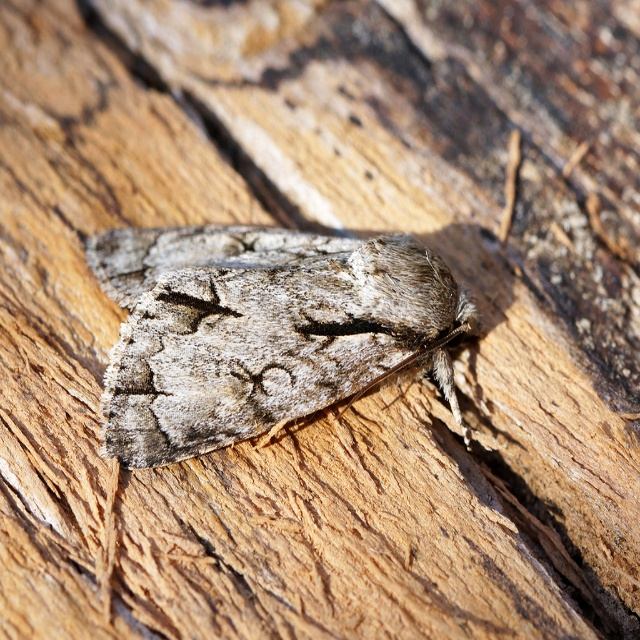Moths and butterflies: (82, 225, 488, 469)
